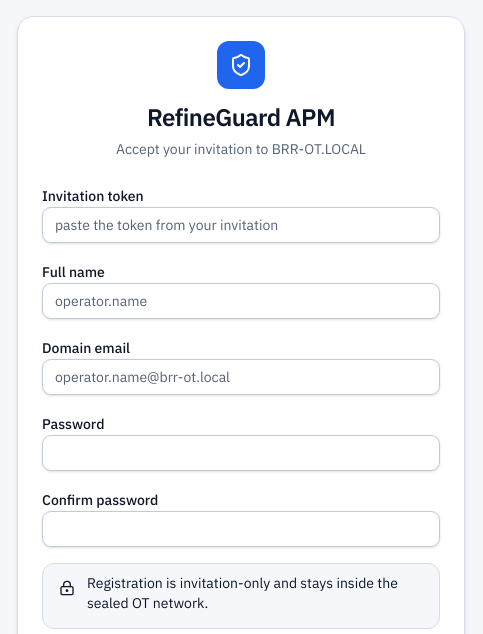
Test case: workspace branch coverage › submits the invitation form with a mismatch and with valid credentials
The image size is (483, 634).
Submit the form, box [42,183,440,629]
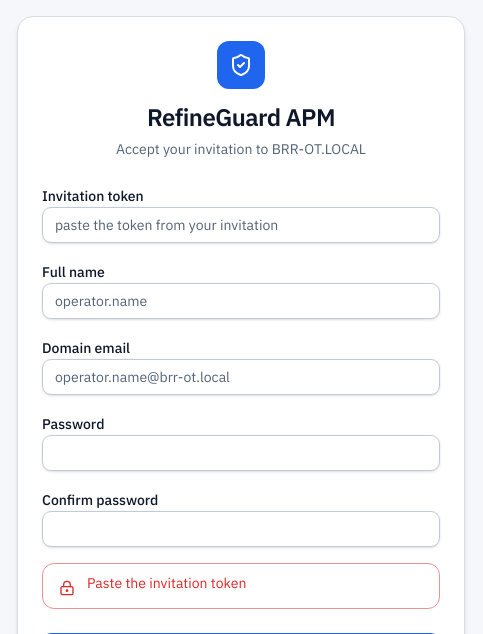
Expected: the text "Invitation token" is shown, [42,187,144,205]
In the field with id "invite": x=241, y=225 [42,207,440,243], type "tok"
In the field with id "name": x=241, y=301 [42,283,440,319], type "Ada Lovelace"
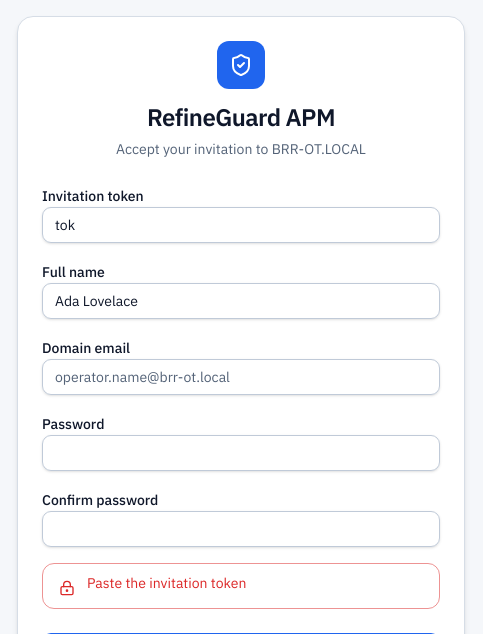
In the field with id "email": x=241, y=377 [42,359,440,395], type "ada@brr-ot.local"
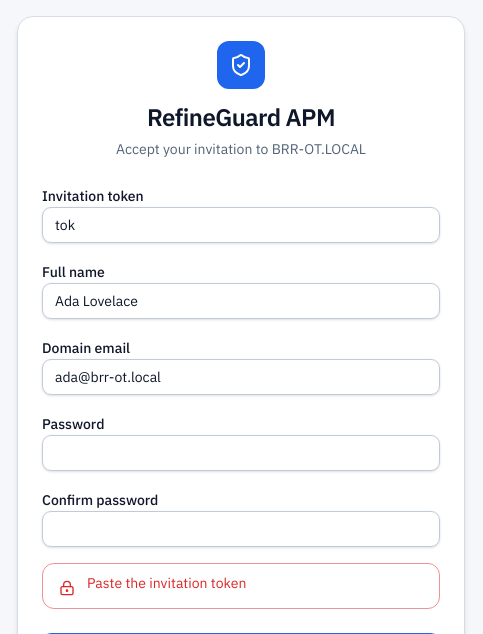
In the password field labelled "Password": x=241, y=453 [42,435,440,471], type "password123"
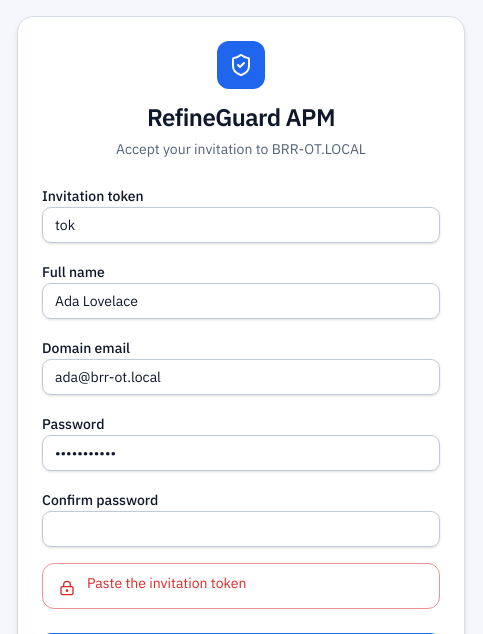
In the password field with id "confirmation": x=241, y=529 [42,511,440,547], type "password123"
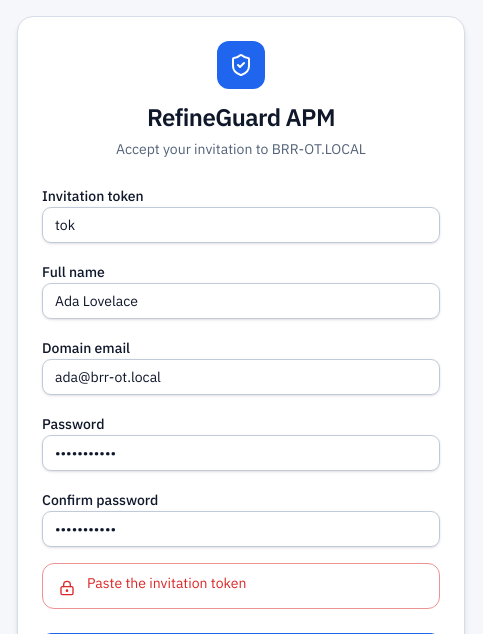
Submit the form, box [42,183,440,609]
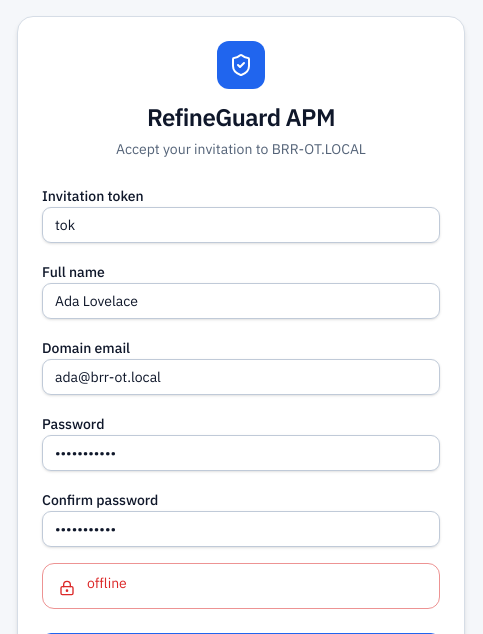
Now the text "offline" is shown, box [87,574,127,592]
